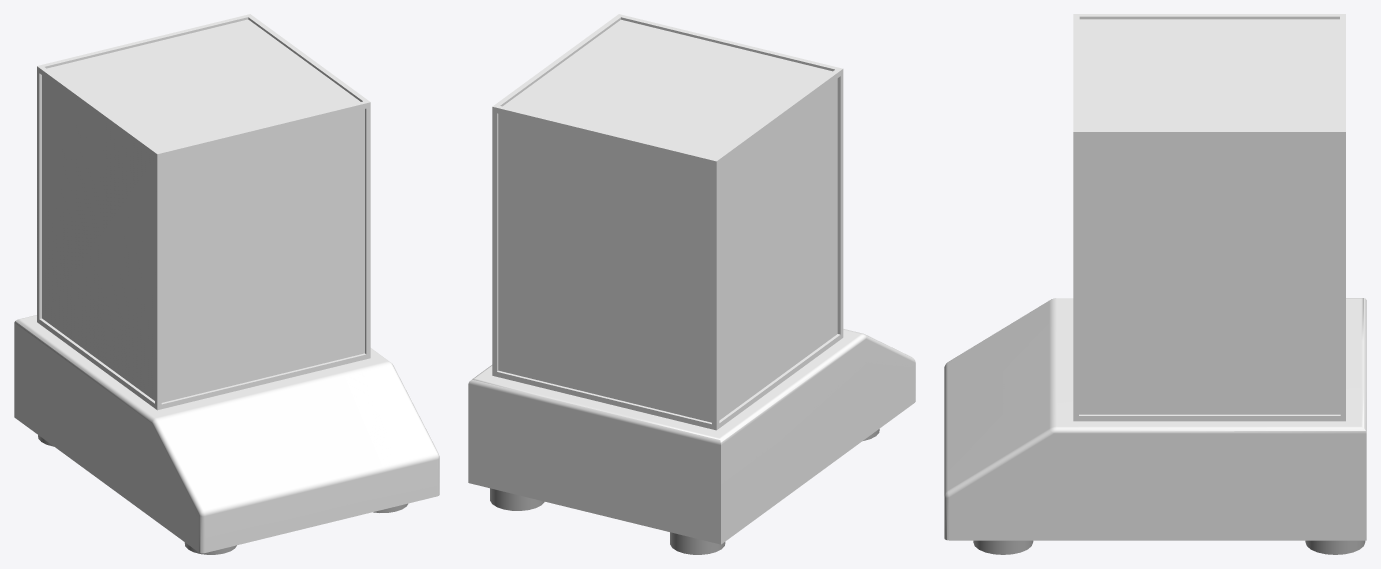
Rendered from analytical_lab_instruments.glb.
The picture shows the model from 3 angles, left to right: view 1: azimuth 30°, elevation 25°; view 2: azimuth 150°, elevation 25°; view 3: azimuth 270°, elevation 25°; orthographic projection. The views are drawn at different scales.
Visible parts, largest first — view 1: pCube32, pCube31; view 2: pCube32, pCube31, pCylinder8, pCylinder7; view 3: pCube32, pCube31, pCylinder7, pCylinder6.
Boxes of the visible parts, <box> form: pCube32: <box>37,14,370,410</box>; pCube31: <box>14,315,439,553</box>; pCube32: <box>492,14,843,430</box>; pCube31: <box>468,329,915,544</box>; pCylinder8: <box>670,532,725,554</box>; pCylinder7: <box>490,488,544,510</box>; pCube32: <box>1073,14,1345,421</box>; pCube31: <box>944,298,1366,540</box>; pCylinder7: <box>1305,540,1365,554</box>; pCylinder6: <box>973,540,1033,554</box>.
Bounding box in the file's own units: 0.3311 × 0.49 × 0.4455.
Materials: 3 (1 with a texture image).
